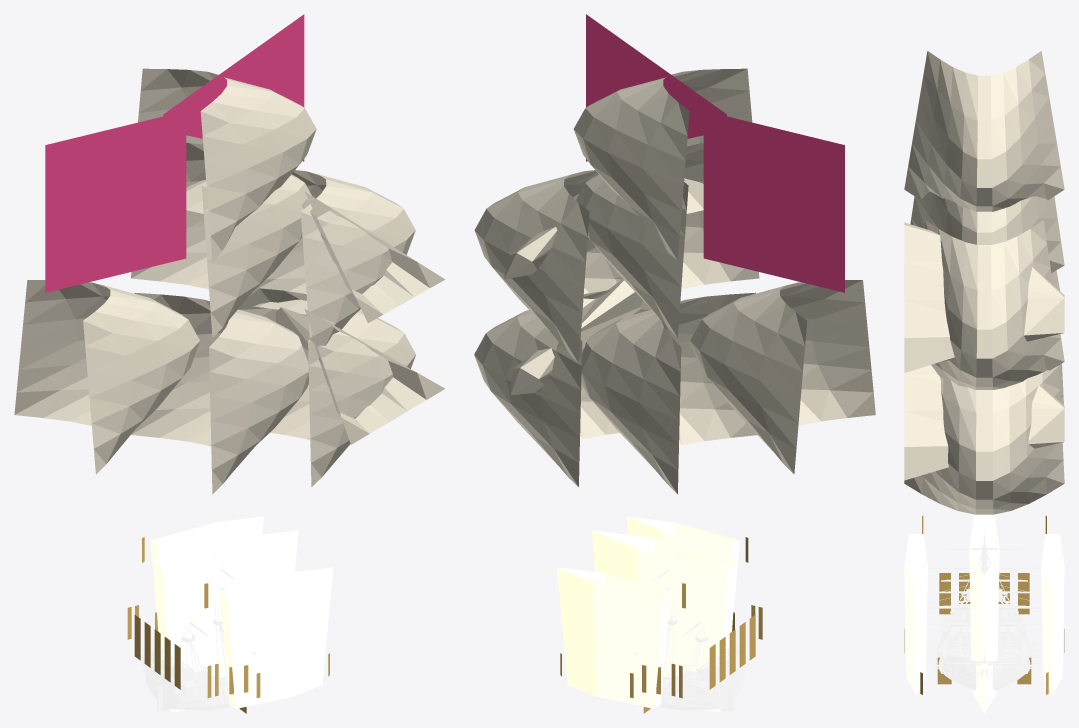
The model's file is navire-v5-leger.glb.
3 renders of one model, left to right at view 1: azimuth 30°, elevation 25°; view 2: azimuth 150°, elevation 25°; view 3: azimuth 270°, elevation 25°, orthographic.
Visible parts, largest first — view 1: navire_lumieres.001, voile_artimon.005, drapeau.006, voile_grande.006, voile_perroquet.006, voile_misaine_hune.005, voile_misaine.006, voile_hune.006, flamme.006, voile_foc2.005, voile_foc.006, navire_corps.006 (+1 smaller); view 2: navire_lumieres.001, voile_artimon.005, drapeau.006, voile_grande.006, voile_perroquet.006, voile_misaine_hune.005, voile_hune.006, voile_misaine.006, flamme.006, navire_corps.006, voile_foc2.005, navire_vitres.001 (+1 smaller); view 3: voile_perroquet.006, voile_misaine_hune.005, voile_misaine.006, navire_lumieres.001, voile_foc.006, navire_corps.006, voile_foc2.005, voile_hune.006, navire_vitres.001.
Boxes of the visible parts, x1,y1,x2,y2 form: navire_lumieres.001: (150, 516, 333, 712); voile_artimon.005: (14, 280, 199, 474); drapeau.006: (45, 111, 186, 292); voile_grande.006: (131, 292, 308, 494); voile_perroquet.006: (138, 68, 316, 260); voile_misaine_hune.005: (253, 170, 415, 363); voile_misaine.006: (238, 288, 415, 486); voile_hune.006: (131, 143, 311, 337); flamme.006: (163, 14, 304, 161); voile_foc2.005: (275, 307, 444, 444); voile_foc.006: (302, 192, 445, 323); navire_corps.006: (140, 551, 255, 711); navire_lumieres.001: (557, 516, 739, 712); voile_artimon.005: (690, 280, 875, 474); drapeau.006: (703, 111, 844, 292); voile_grande.006: (581, 292, 757, 494); voile_perroquet.006: (573, 68, 752, 260); voile_misaine_hune.005: (474, 170, 622, 363); voile_hune.006: (576, 143, 759, 337); voile_misaine.006: (474, 290, 651, 486); flamme.006: (586, 14, 726, 161); navire_corps.006: (634, 551, 749, 711); voile_foc2.005: (511, 279, 642, 395); navire_vitres.001: (560, 537, 762, 713); voile_perroquet.006: (904, 51, 1064, 211); voile_misaine_hune.005: (924, 220, 1064, 389); voile_misaine.006: (904, 365, 1064, 514); navire_lumieres.001: (904, 514, 1064, 713); voile_foc.006: (904, 222, 1064, 372); navire_corps.006: (904, 534, 1064, 690); voile_foc2.005: (904, 365, 1064, 480); voile_hune.006: (910, 191, 1064, 272); navire_vitres.001: (904, 515, 1064, 694).
Size of the model in its own units: 5.19 by 8.97 by 2.
